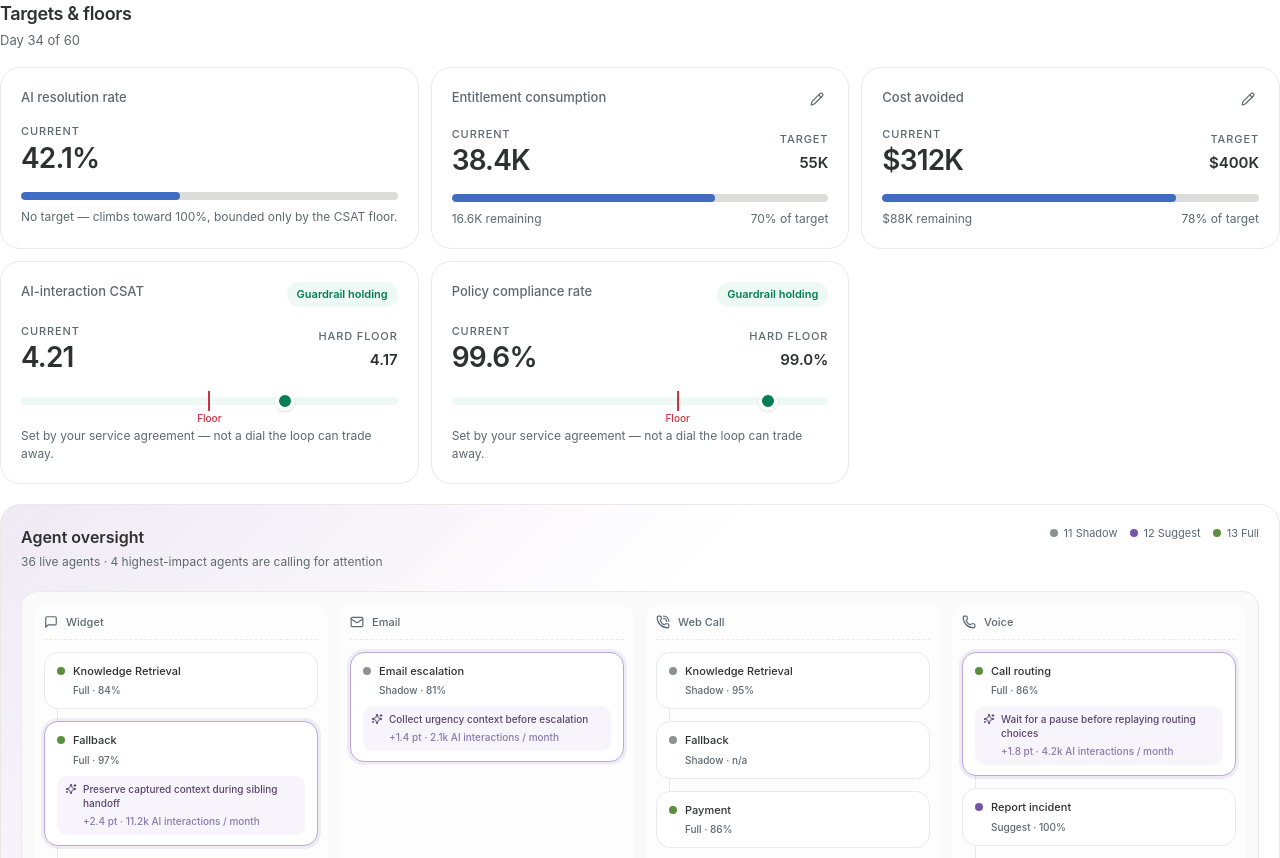
CockpitOverview outcomes › requests entitlement and cost-avoided changes while keeping displayed outcomes controlled by its parent
Expected: the text "55K" is shown, [799,152,828,172]
Expected: the text "$400K" is shown, [1209,152,1259,174]
Click the button named "Edit Entitlement consumption": [817, 98] box [806,88,828,110]
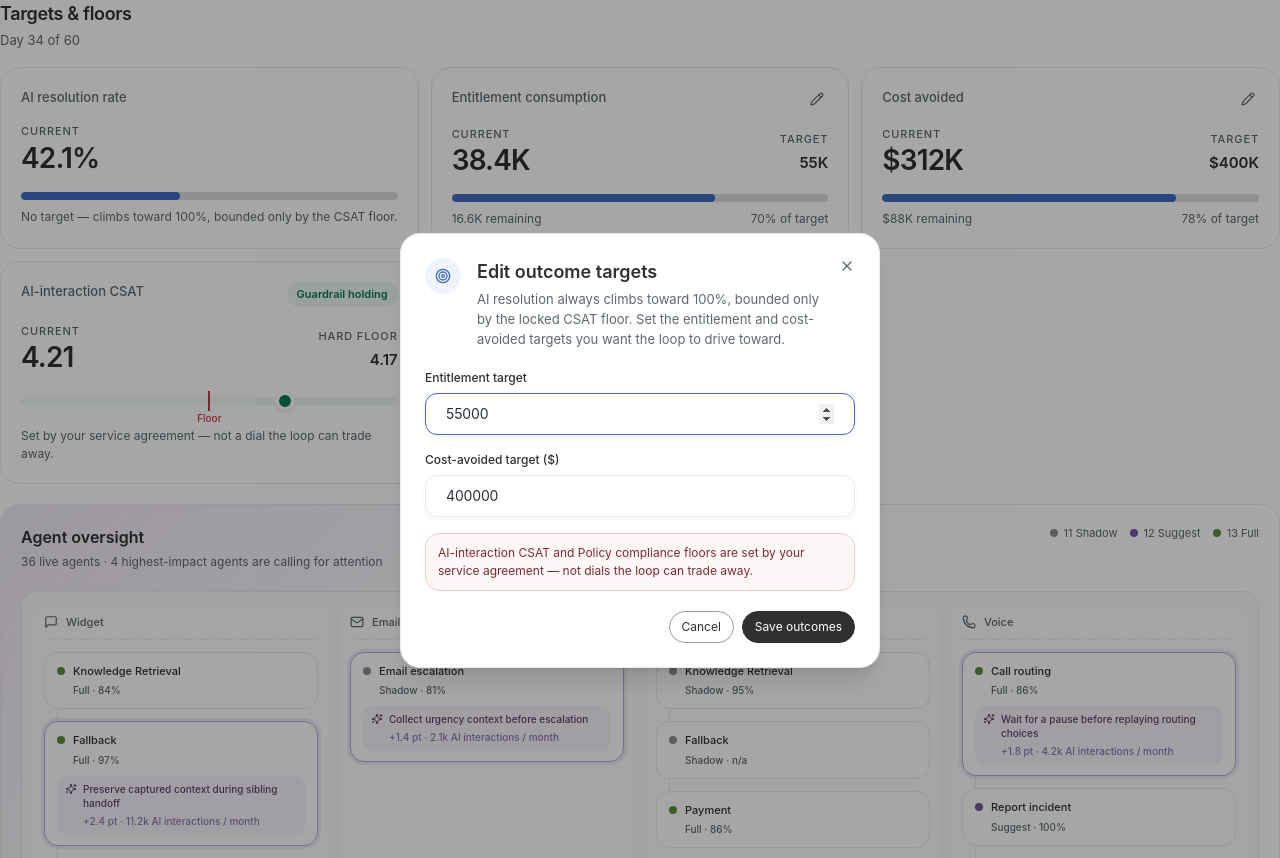
Clear the number field labelled "Entitlement target": [640, 414] box [425,392,855,434]
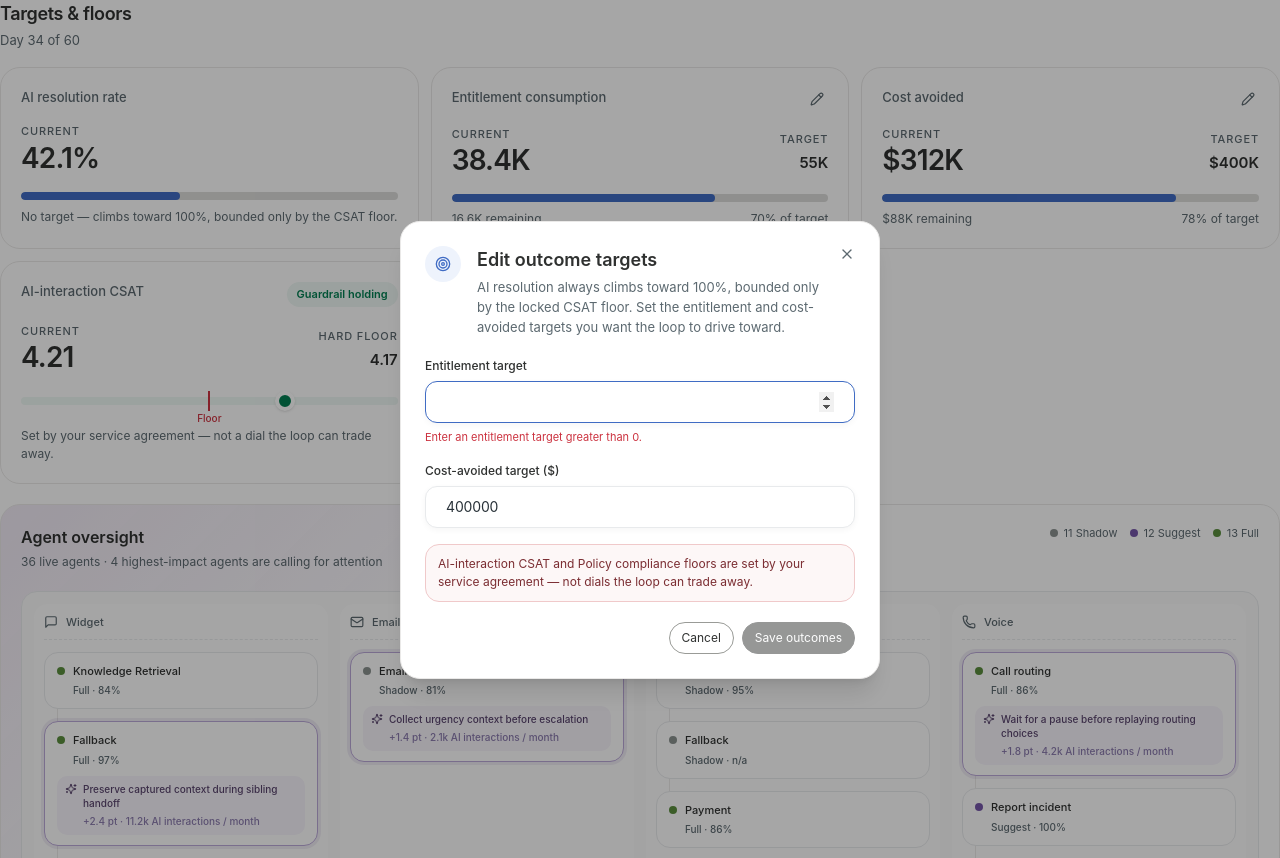
In the number field labelled "Entitlement target": [640, 402] box [425,381,855,423], type "60000"
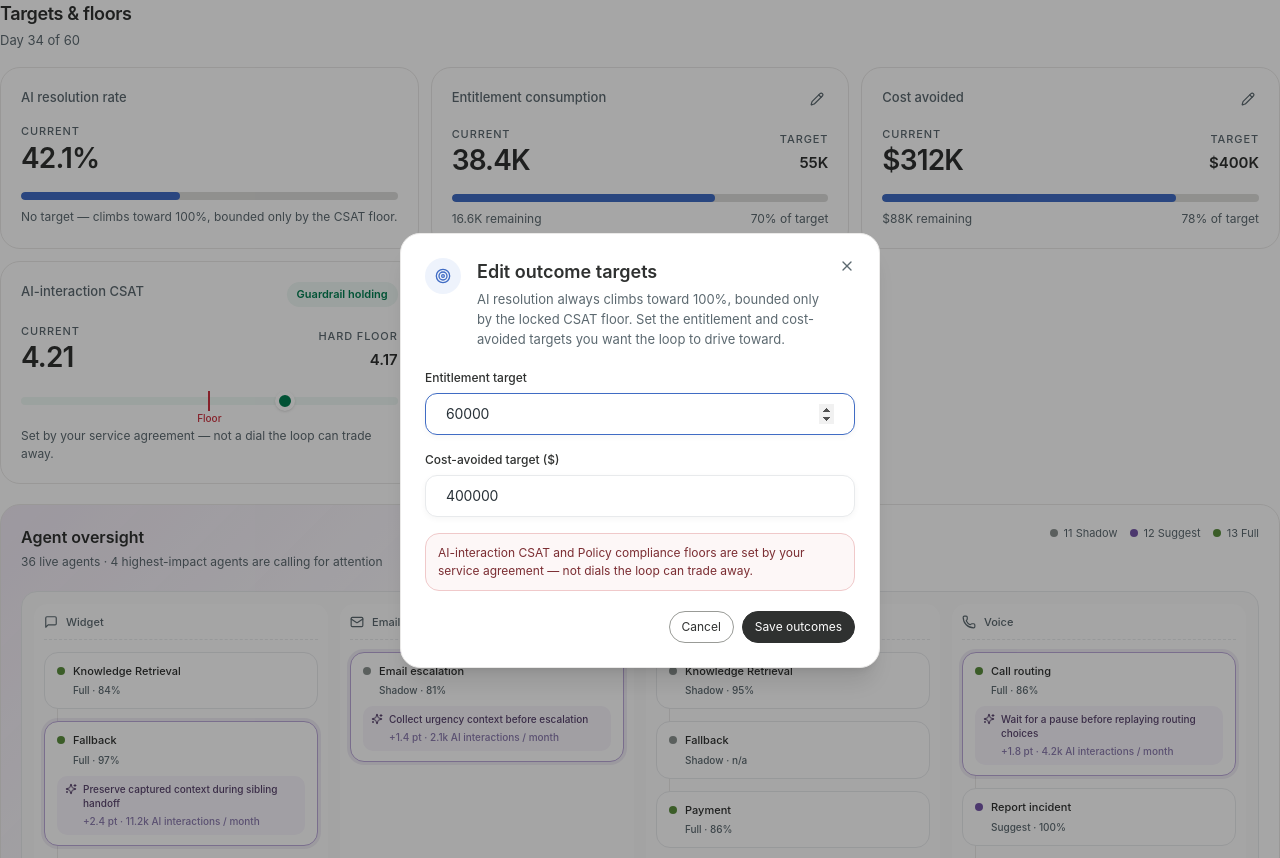
Clear the number field labelled "Cost-avoided target ($)": [640, 496] box [425,474,855,516]
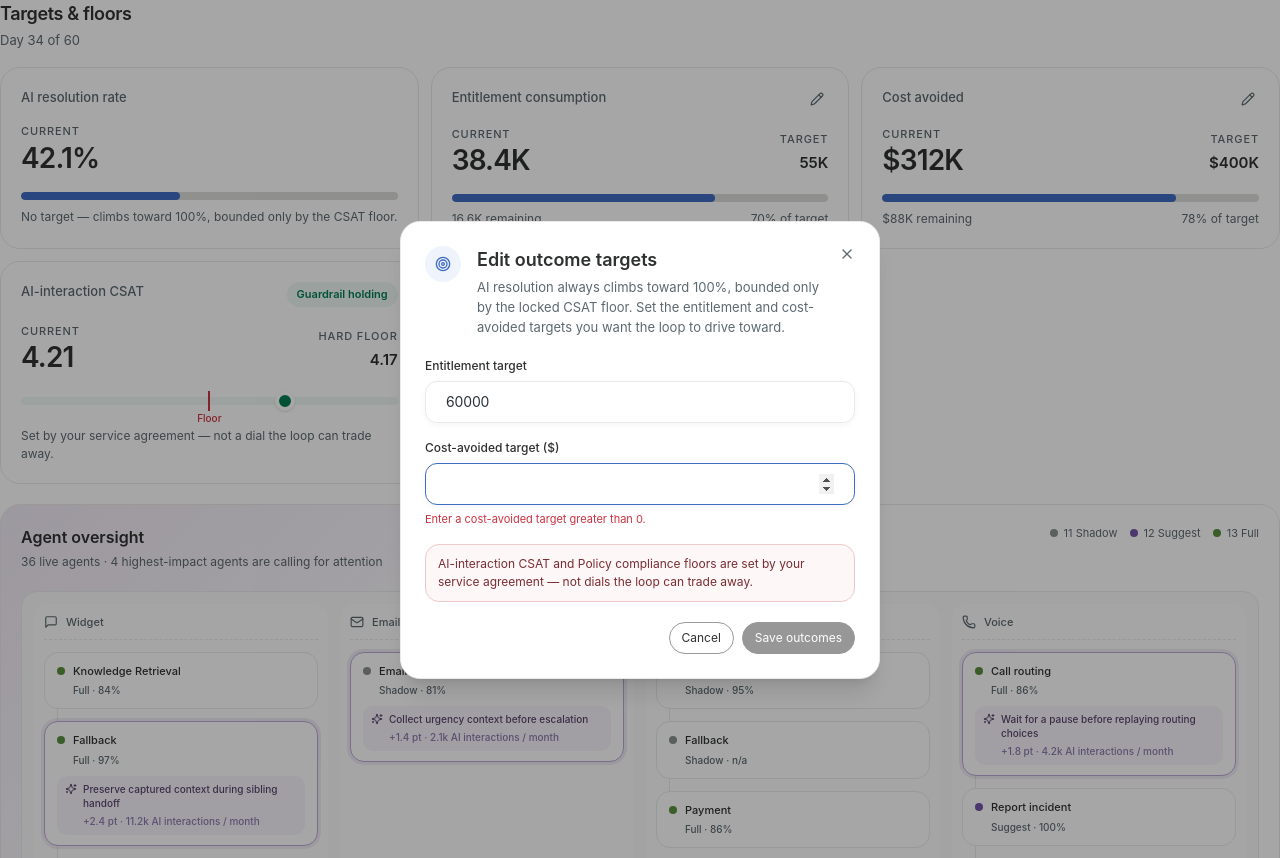
In the number field labelled "Cost-avoided target ($)": [640, 484] box [425,463,855,505], type "500000"
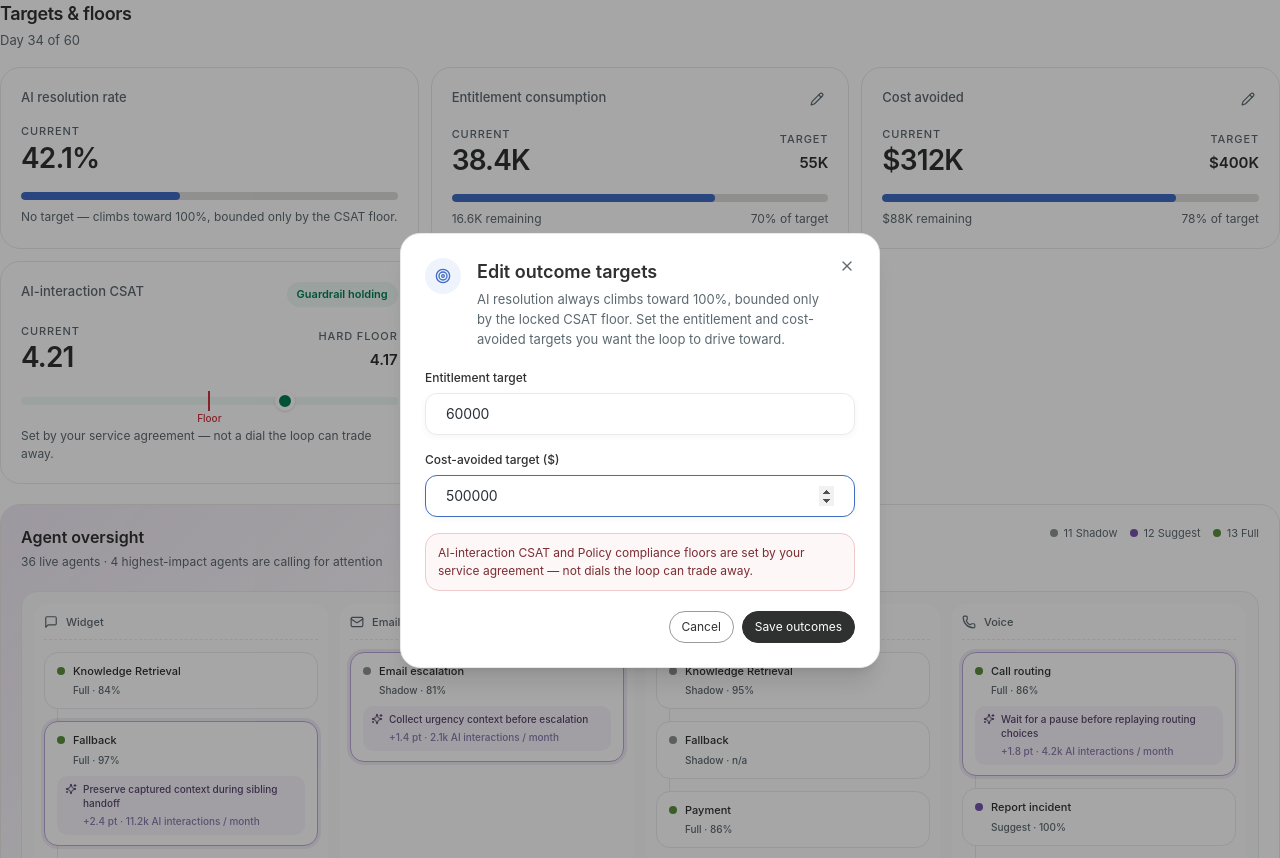
Click the button "Save outcomes": [798, 626] box [742,610,855,642]
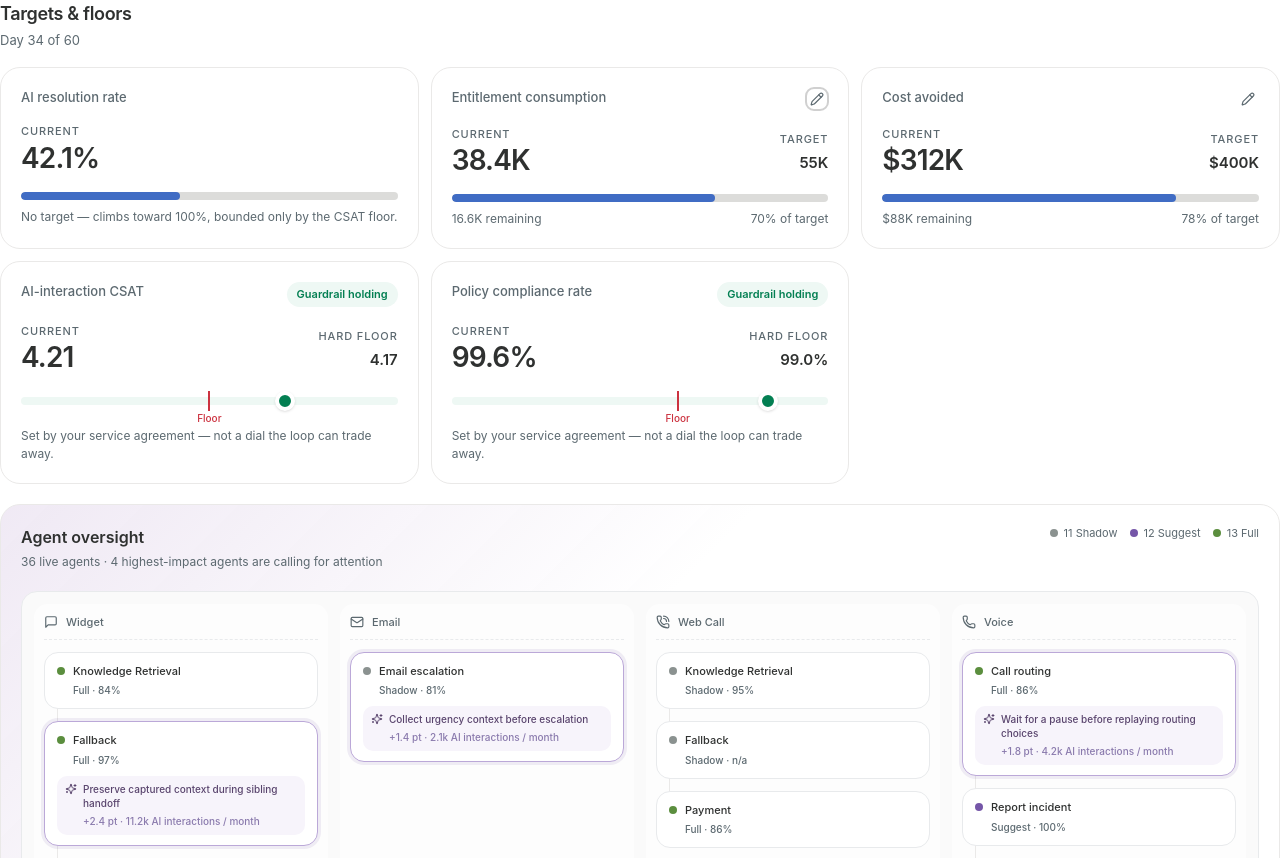
Expected: the text "42.1%" is shown, [21,140,99,174]
Result: the heading "Edit outcome targets" is gone
